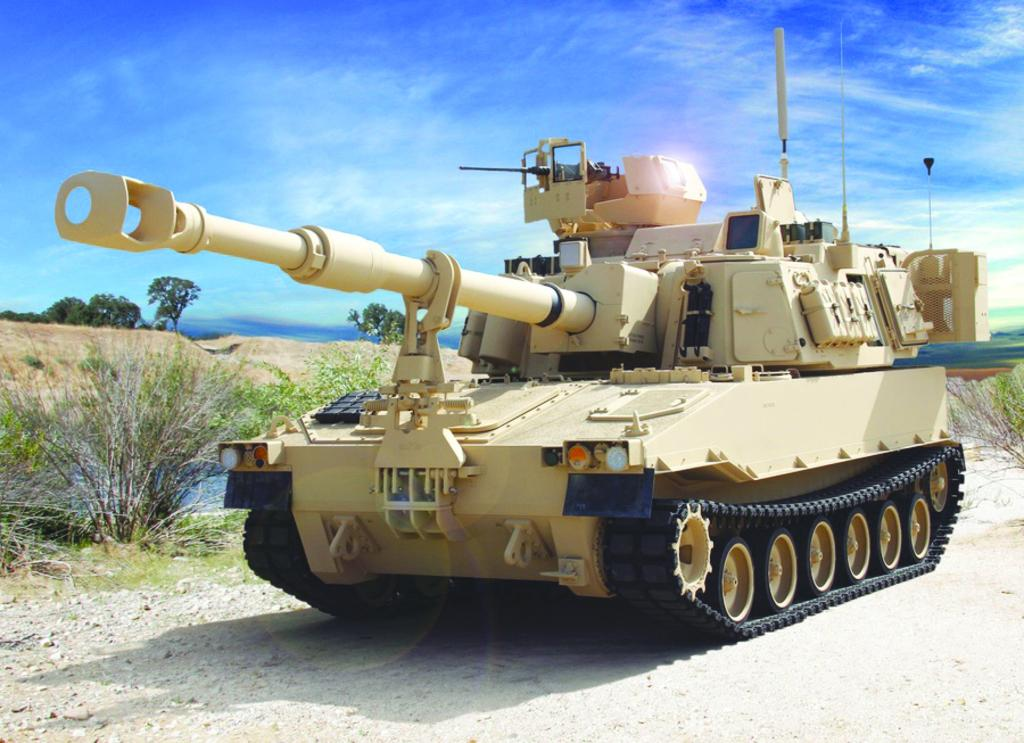Tank: (55, 23, 991, 641)
